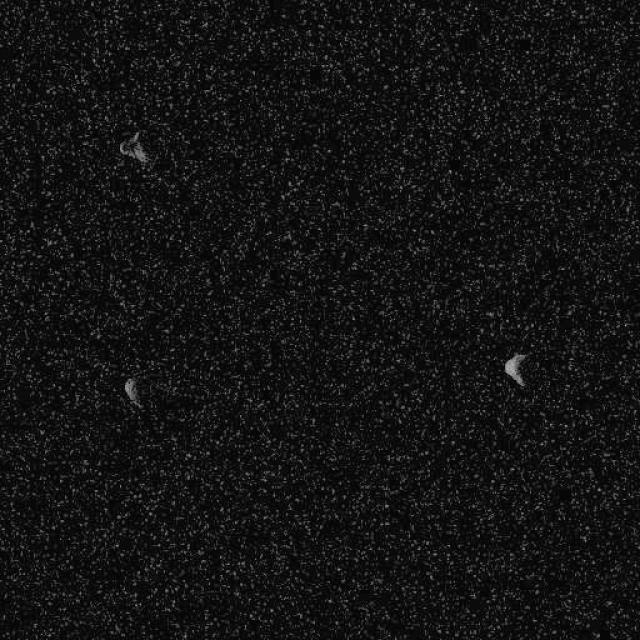D2: (118, 131, 148, 164), (502, 352, 528, 388), (122, 377, 142, 408)
